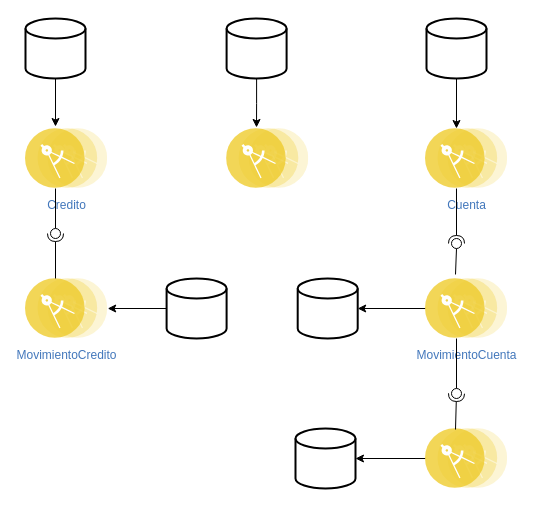
Some shapes in this 534 by 529 pixel diagram are drawn without their labels. The centre of each missing label's shape, as x and y in pixels:
"Cliente" goes at (267,158).
"Representante" goes at (466,458).
